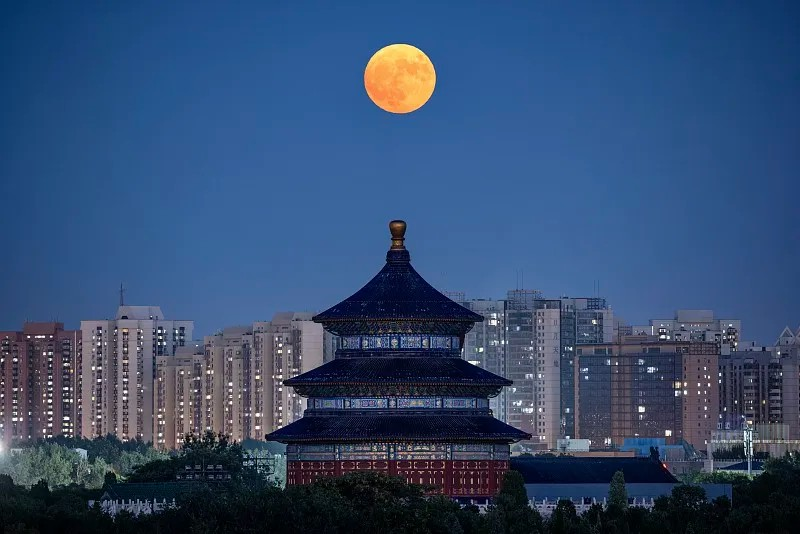Heaven: (265, 219, 536, 500)
